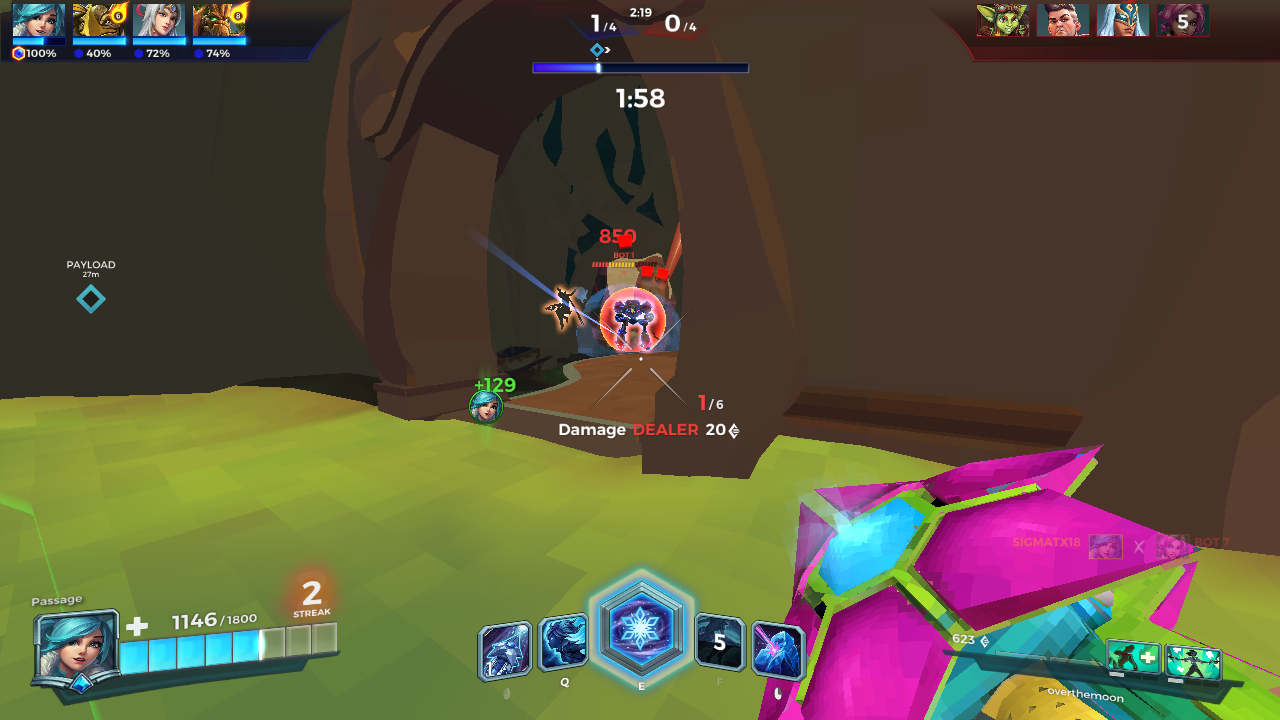model: (613, 291, 651, 351), (547, 287, 578, 337)
